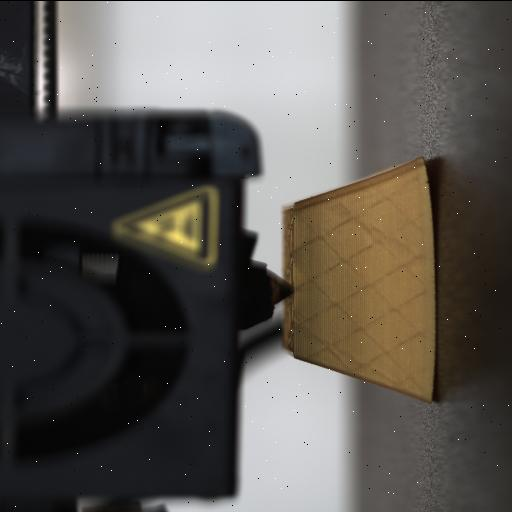warp: (411, 149, 444, 243)
